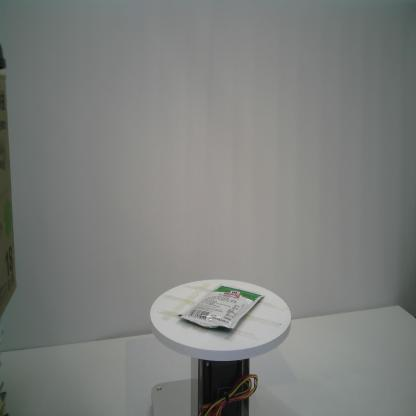Seasoner: (178, 284, 266, 330)
